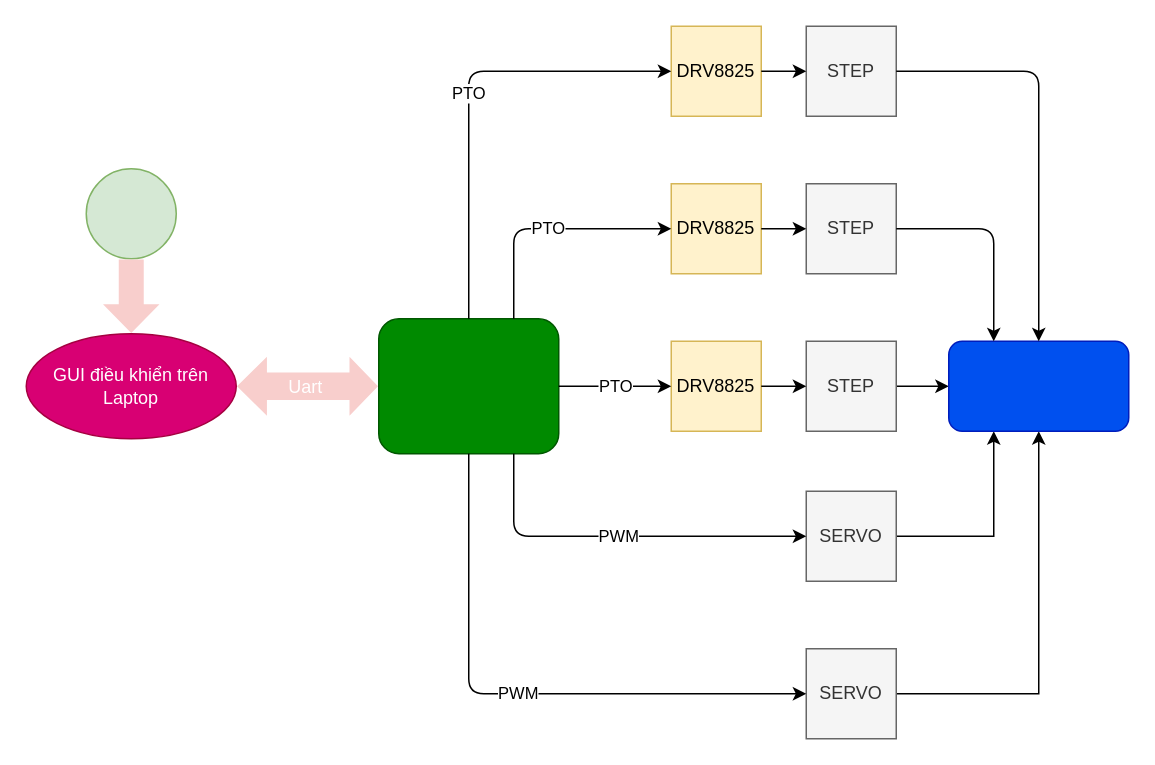
The diagram is 1155 pixels wide and 765 high, and some of its shapes have lost their labels. Each missing label, with the box of its shape:
Camera: (85, 167, 176, 259)
KIT STM32F407: (377, 317, 559, 454)
MODEL: (947, 340, 1129, 431)
